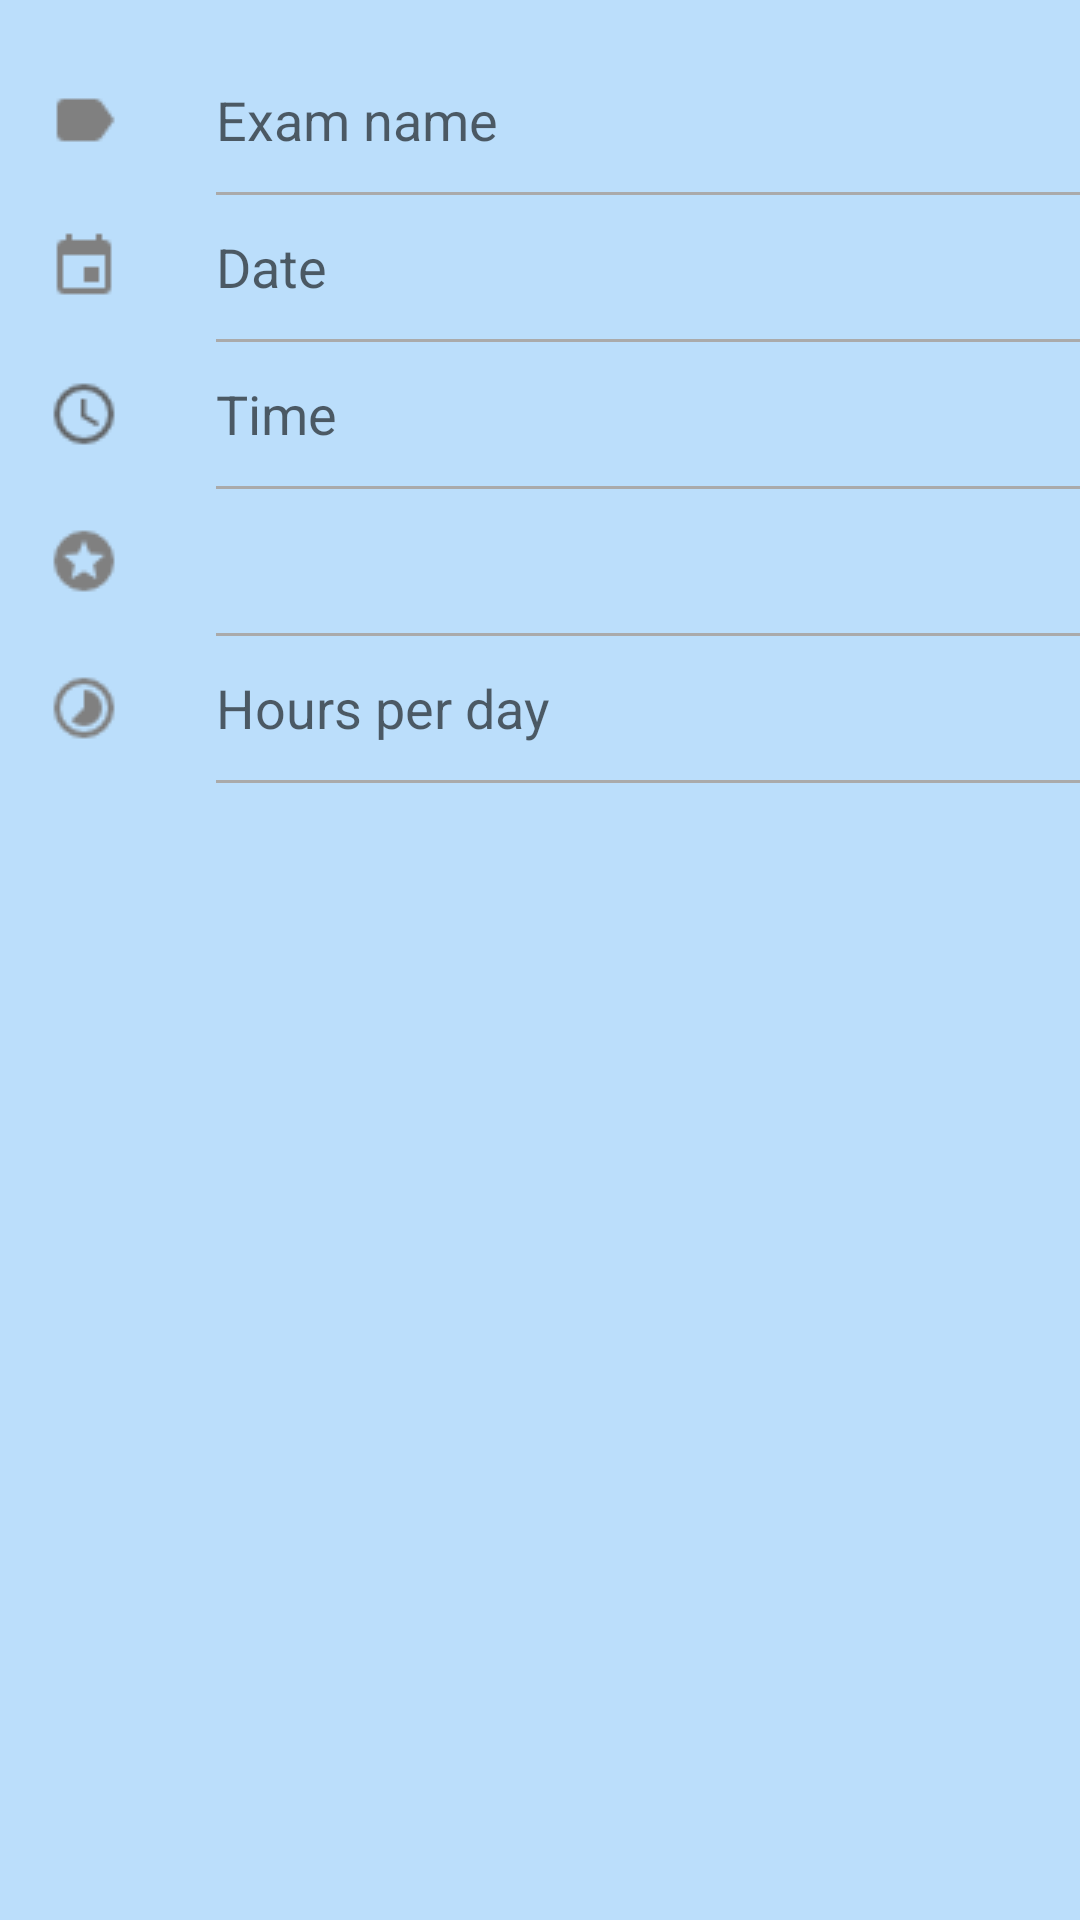

Screen size 1080x1920. Icon name, then its center in pixels as point (x, y):
calendar: point (84, 264)
clock: point (84, 414)
label: point (85, 120)
rate: point (84, 561)
timelapse: point (84, 708)
